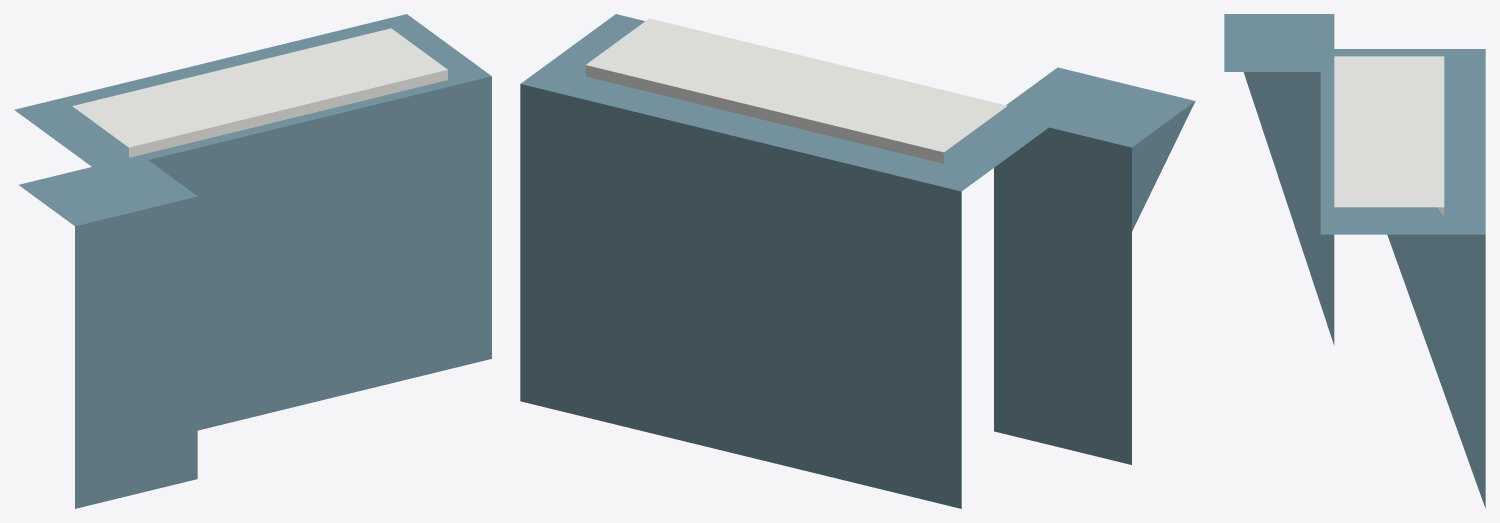
File: info-desk.glb
3 views of the same model, side by side, from view 1: azimuth 30°, elevation 25°; view 2: azimuth 150°, elevation 25°; view 3: azimuth 270°, elevation 25° (orthographic). The views are drawn at different scales.
Bounding box in the file's own units: 1.9 × 1.14 × 0.95.
